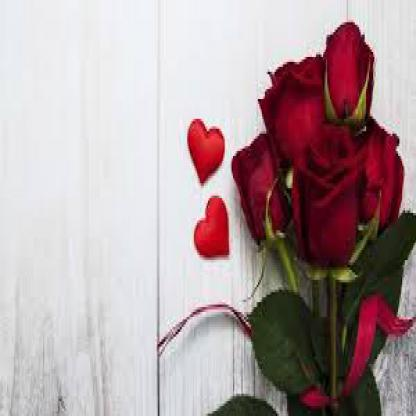Rose-Mawar: (228, 13, 406, 266)
